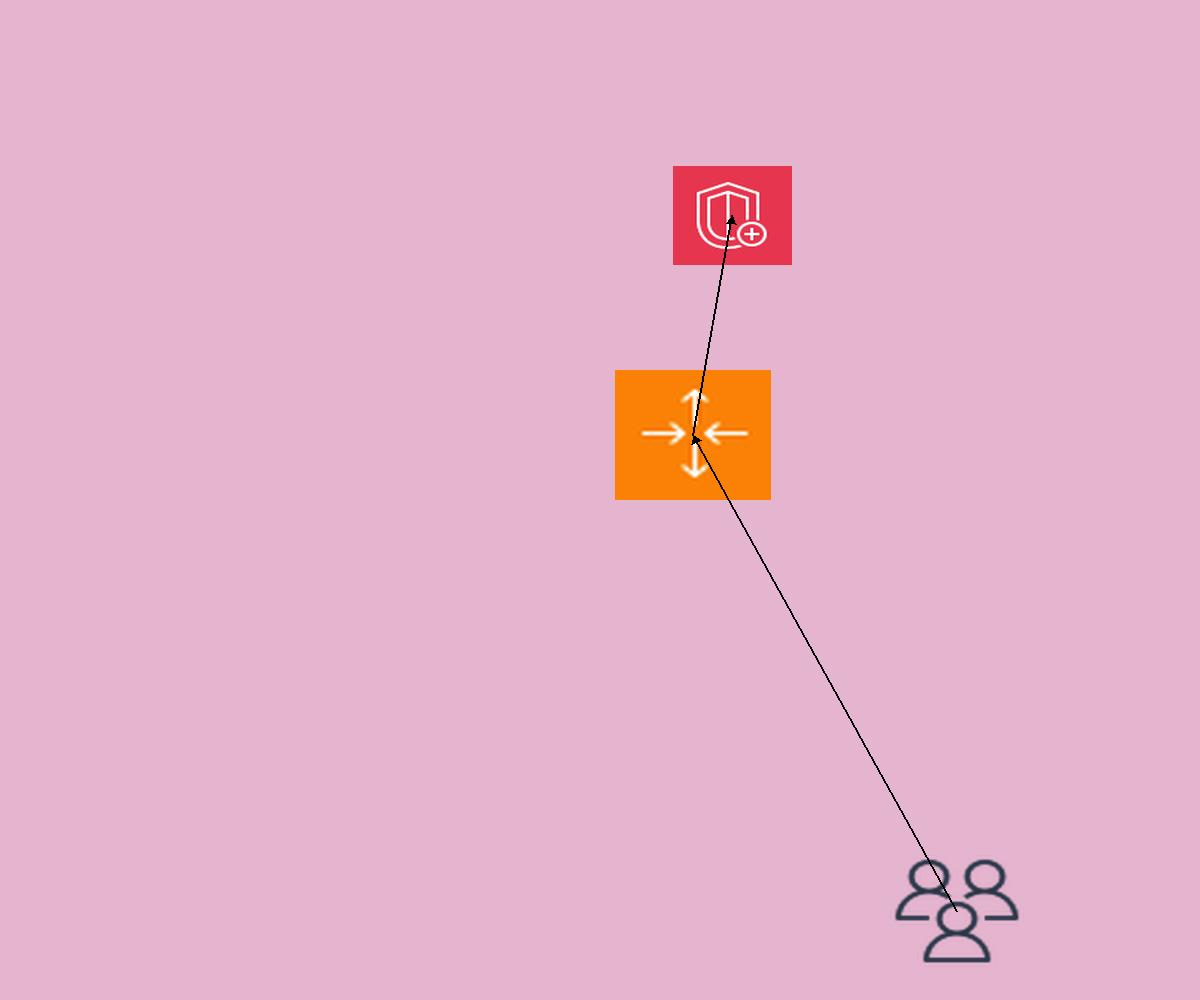AWS-Res_Users: (890, 855, 1024, 967)
AWS-Scaling-group: (615, 370, 771, 500)
AWS-Shield: (673, 166, 792, 265)
